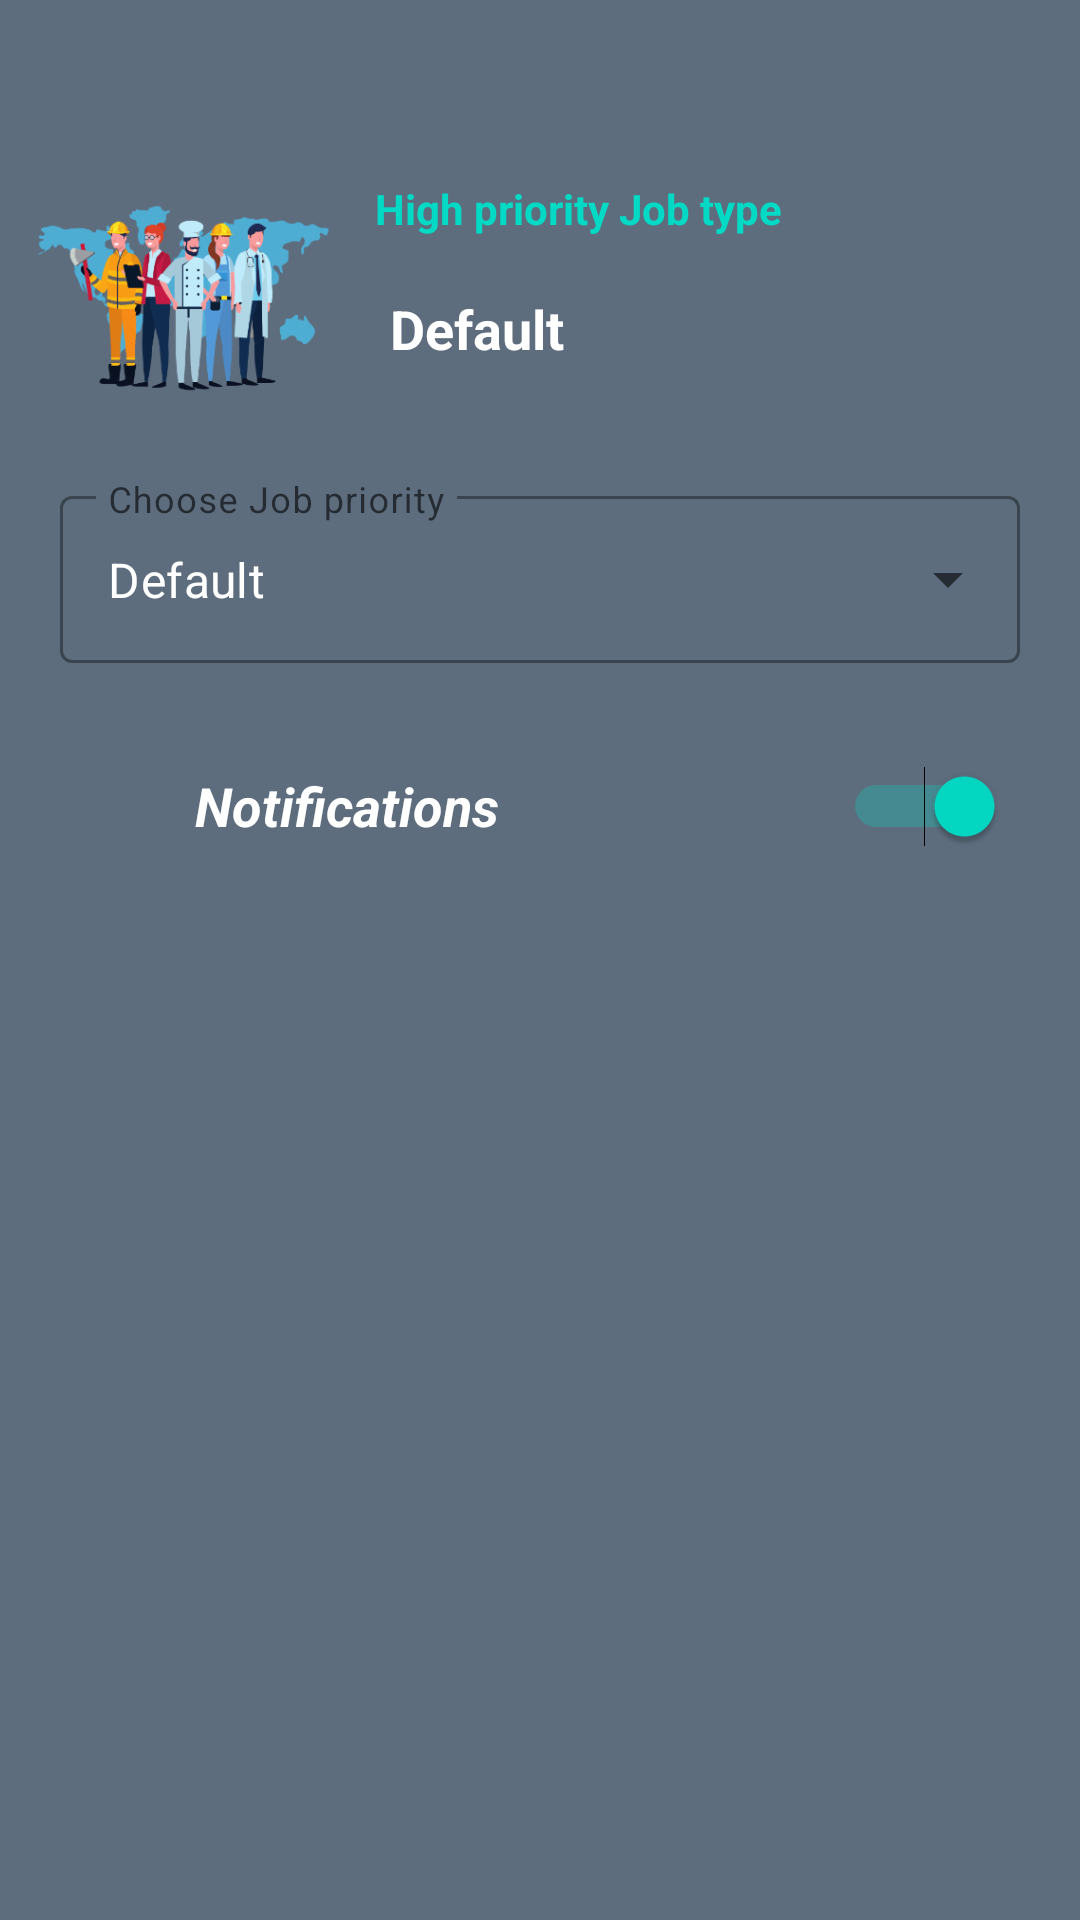

Locate icon controls on the screen. Image size 1080px×1920px, boxes as (x1, y1, x2, y2).
job hint: (39, 206, 329, 390)
